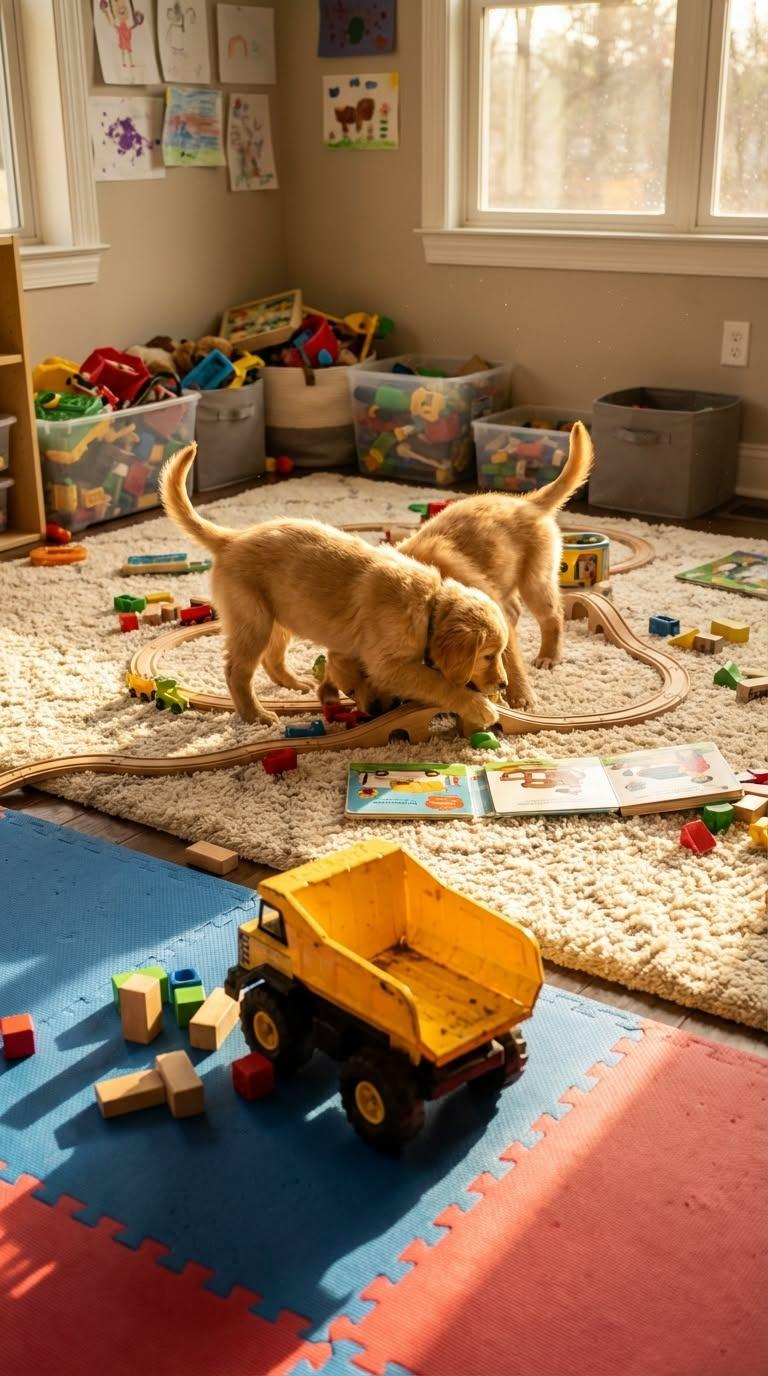puppy-dog: (157, 438, 512, 742), (310, 418, 594, 714)
